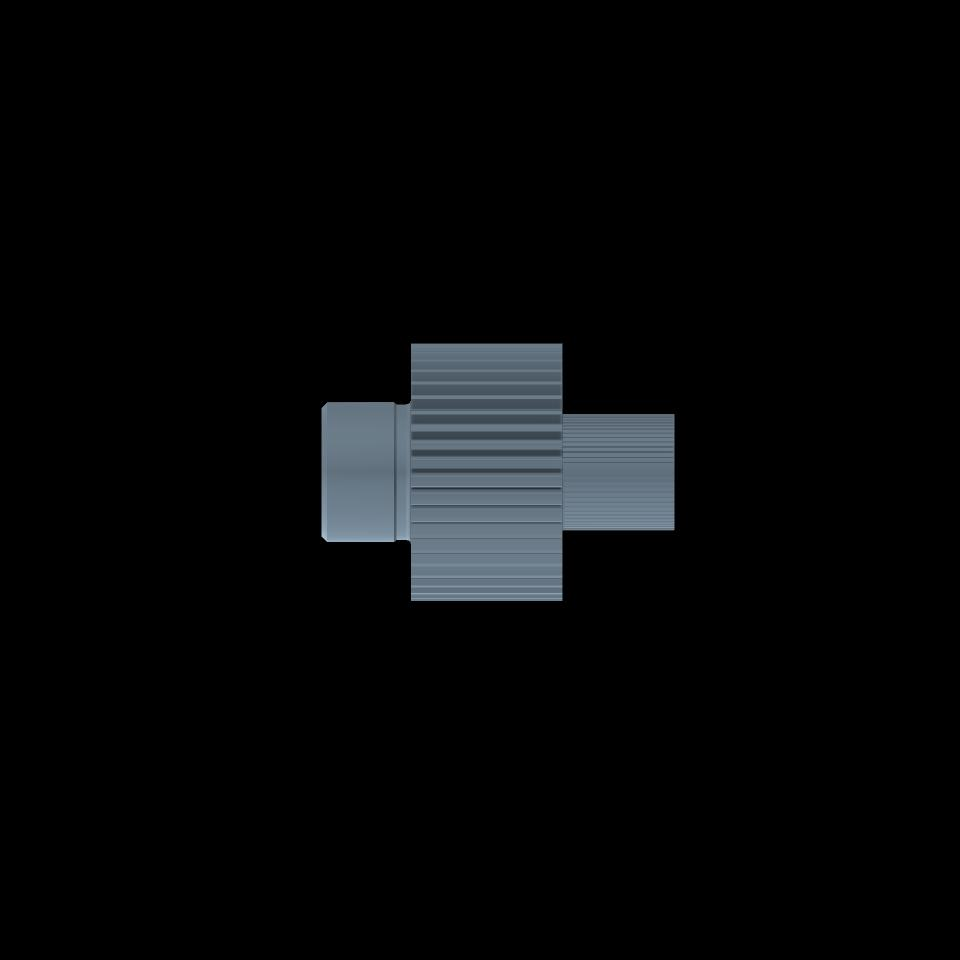Straight: (411, 343, 561, 601), (561, 414, 674, 530)
